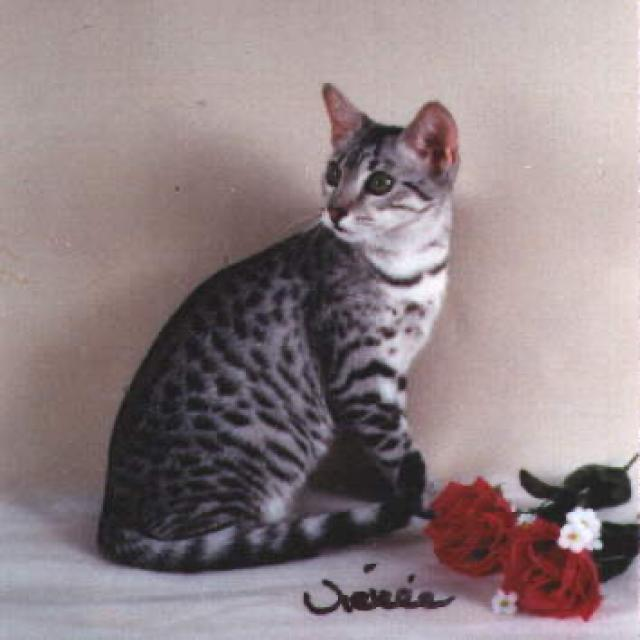cat: (320, 81, 456, 239)
